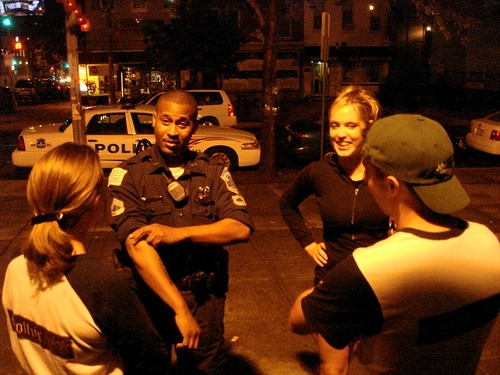head: (365, 112, 471, 232), (27, 144, 108, 260), (151, 89, 198, 157), (326, 90, 373, 158)
person: (282, 109, 499, 372), (101, 86, 269, 375), (1, 139, 173, 375), (277, 83, 388, 296)
